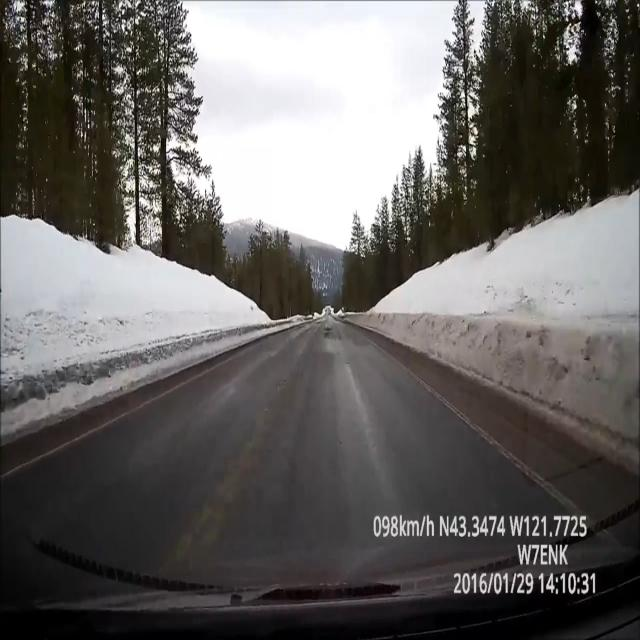Pothole: (321, 324, 337, 341)
